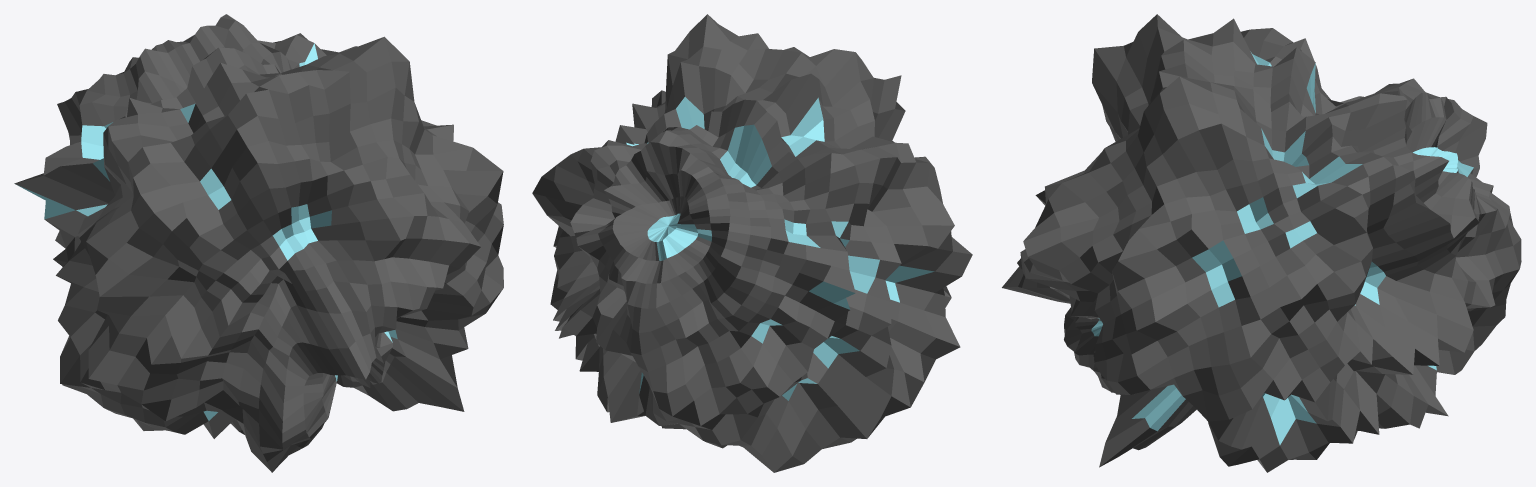
File: Diamond.fbx
The picture shows the model from 3 angles, left to right: view 1: azimuth 30°, elevation 25°; view 2: azimuth 150°, elevation 25°; view 3: azimuth 270°, elevation 25°; orthographic projection. The views are drawn at different scales.
Visible parts, largest first — view 1: Ore; view 2: Ore; view 3: Ore.
Boxes of the visible parts, x1=… form: Ore: x1=14, y1=14, x2=503, y2=472; Ore: x1=532, y1=14, x2=972, y2=472; Ore: x1=1002, y1=14, x2=1521, y2=472.
Bounding box in the file's own units: 135 × 121 × 140.
